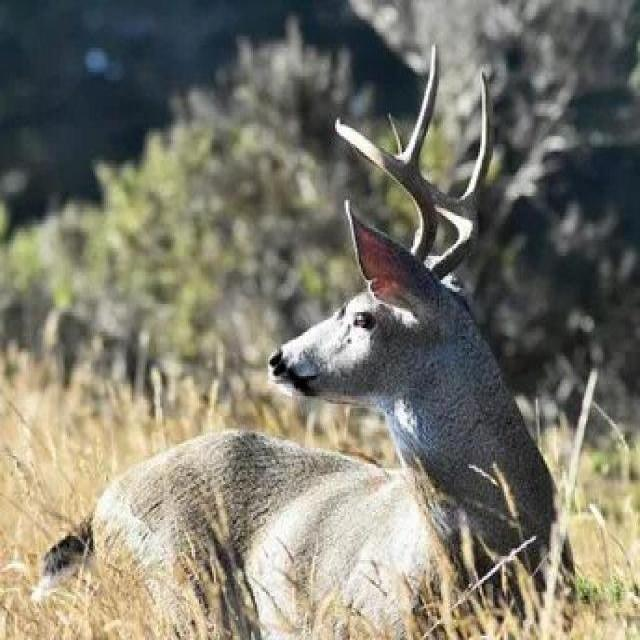deer: (222, 81, 600, 590)
